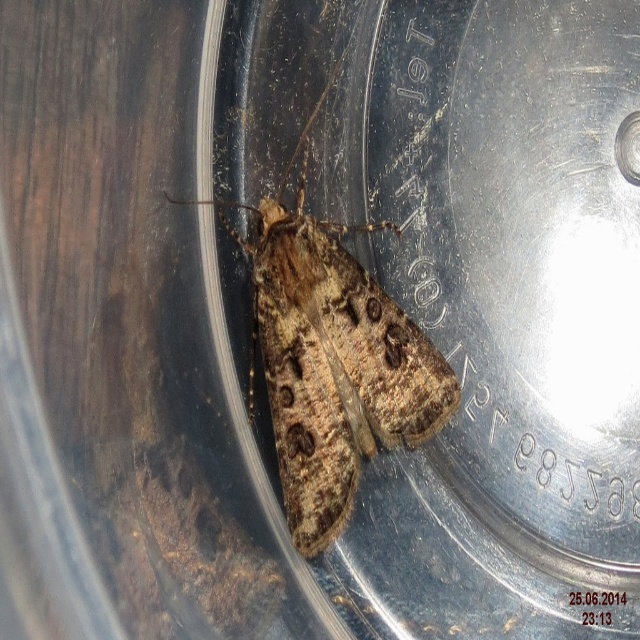Moths and butterflies: (163, 58, 463, 561)
